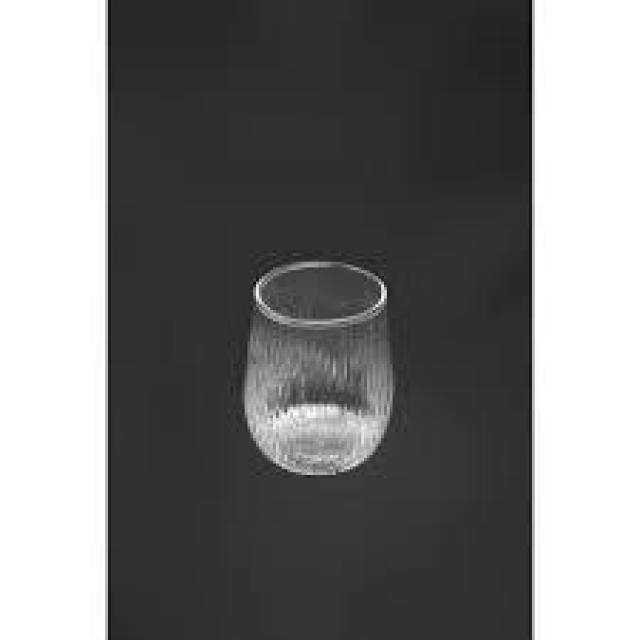non-organic waste: (242, 256, 398, 475)
